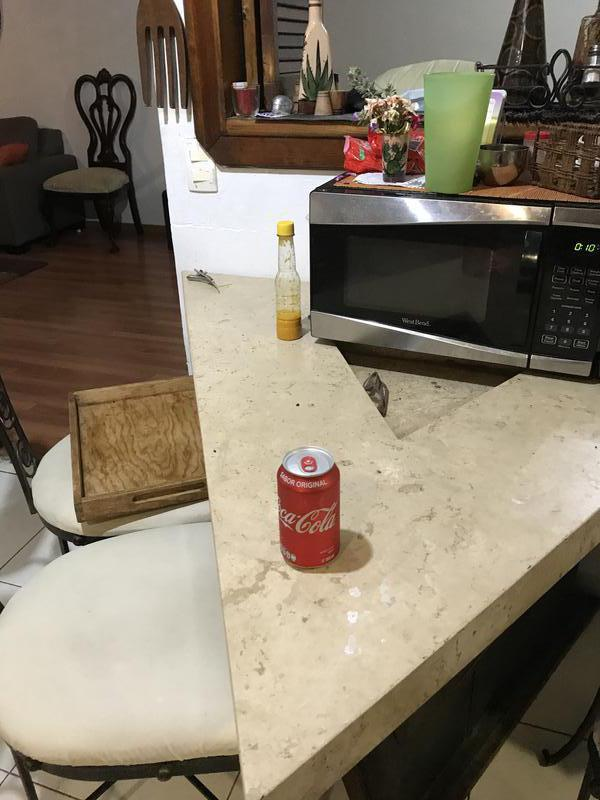coca_cola: (277, 449, 341, 567)
